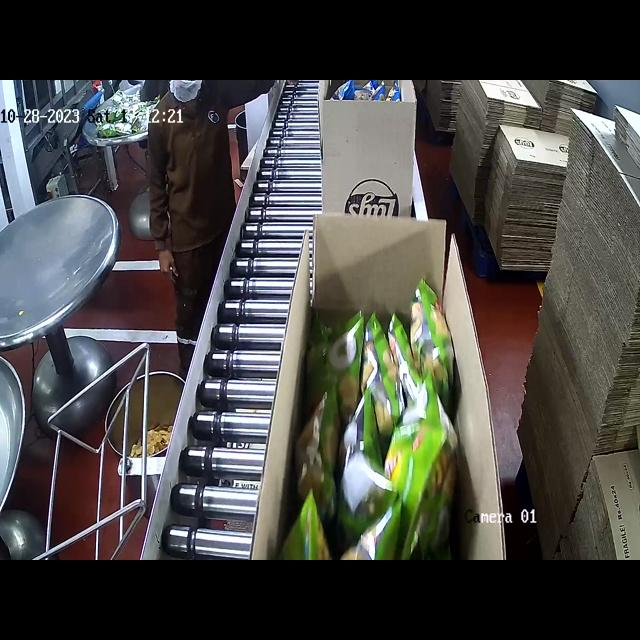paprika: (334, 82, 403, 99)
yogurt: (319, 306, 466, 559)
